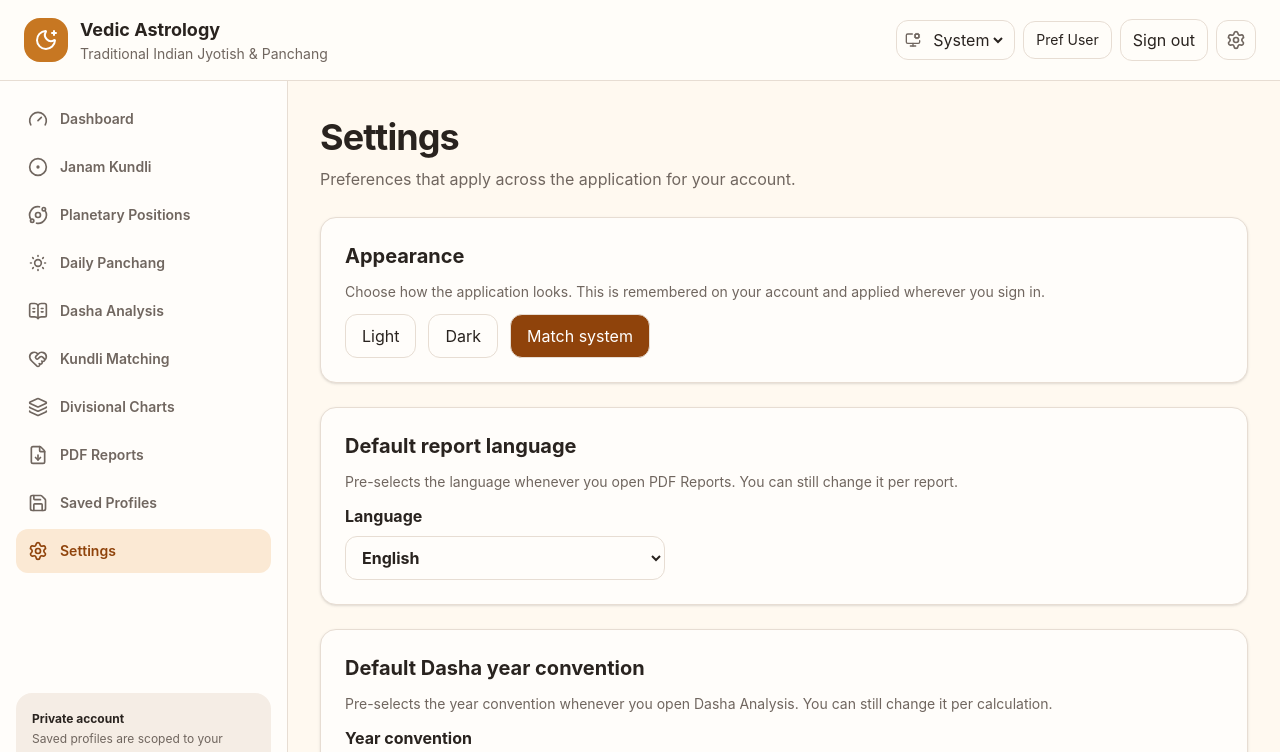
Test: Settings page › persists the default report language to localStorage for the Reports page to read
Select "ਪੰਜਾਬੀ" in the dropdown named "Default report language" at (505, 558), box x1=345 y1=536 x2=665 y2=580
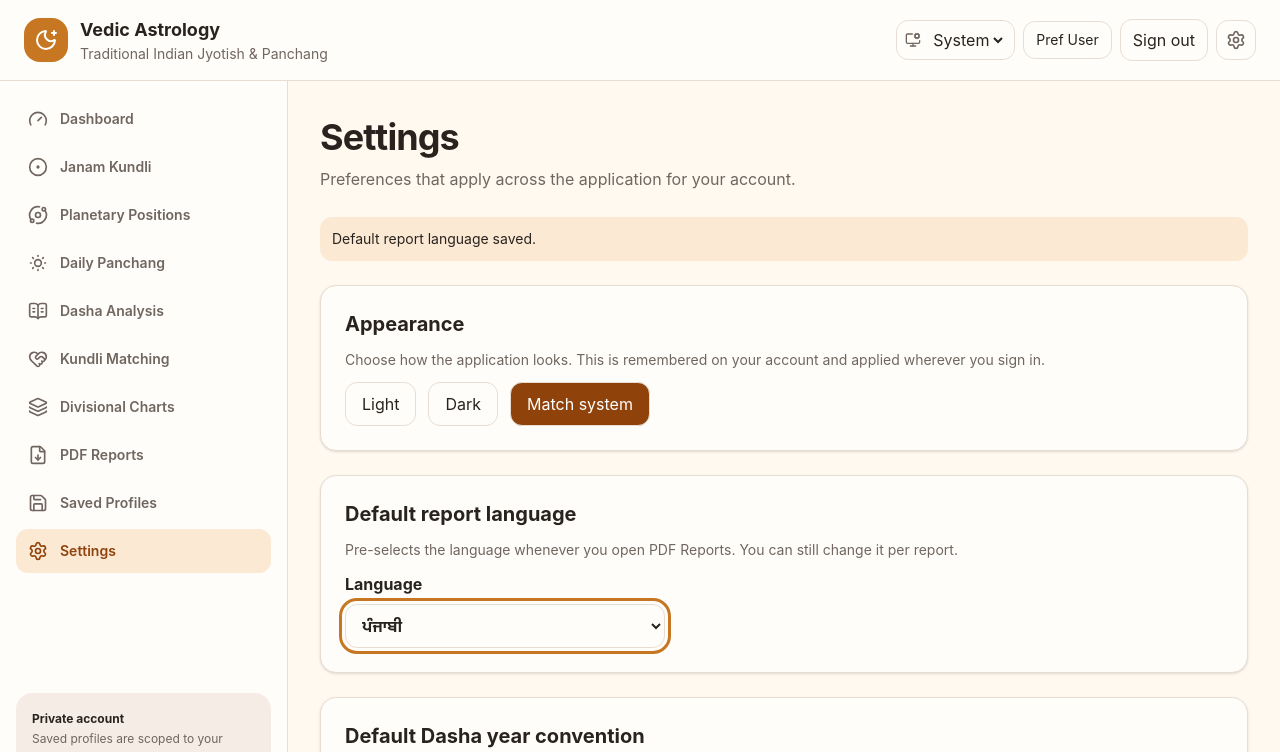
Expected: the text "Default report language saved." is shown, x1=320 y1=217 x2=1248 y2=261
